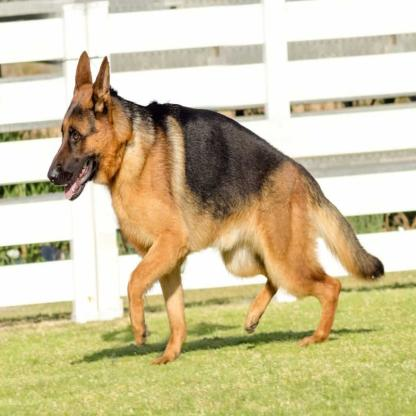german shepherd: (48, 36, 388, 370)
